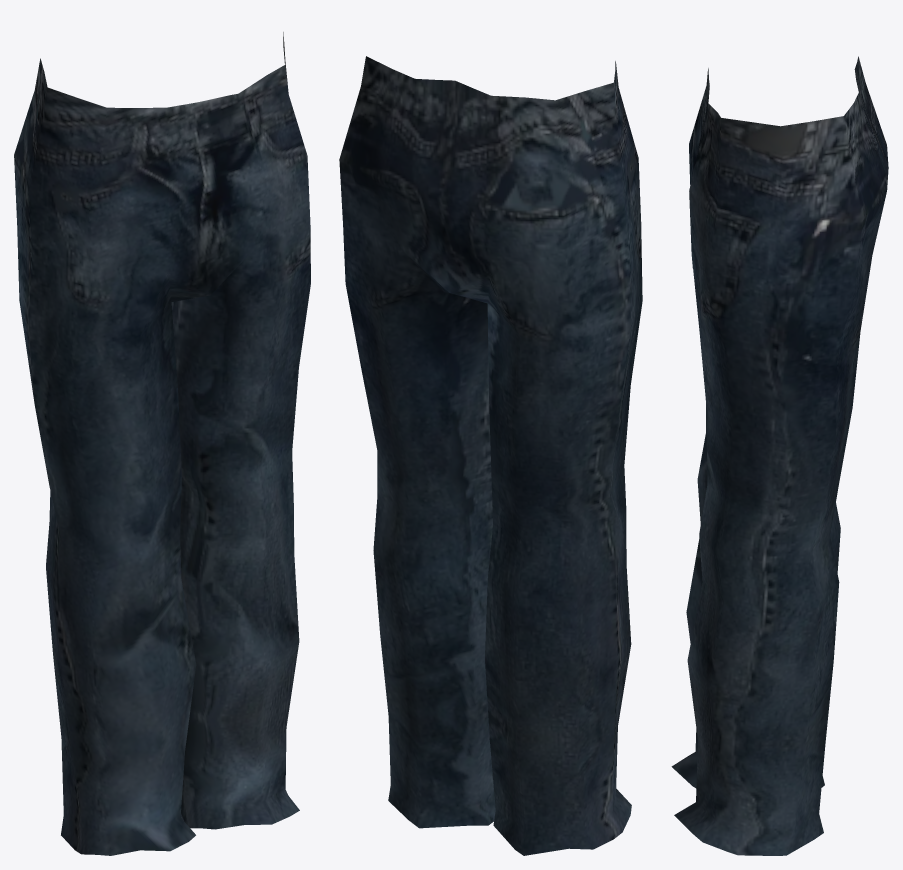
Rendered from 006-shell.glb.
3 renders of one model, left to right at view 1: azimuth 30°, elevation 25°; view 2: azimuth 150°, elevation 25°; view 3: azimuth 270°, elevation 25°, orthographic. The views are drawn at different scales.
Visible parts, largest first — view 1: geometry_0; view 2: geometry_0; view 3: geometry_0.
Part boxes in pixels (bbox=[...]): geometry_0: bbox=[14, 32, 310, 855]; geometry_0: bbox=[339, 56, 642, 855]; geometry_0: bbox=[671, 56, 888, 855].
Size of the model in its own units: 0.342 by 0.9178 by 0.2438.
1 material, 1 textured.
